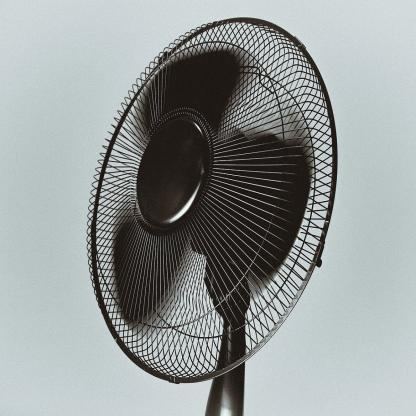fan: (85, 9, 345, 416)
